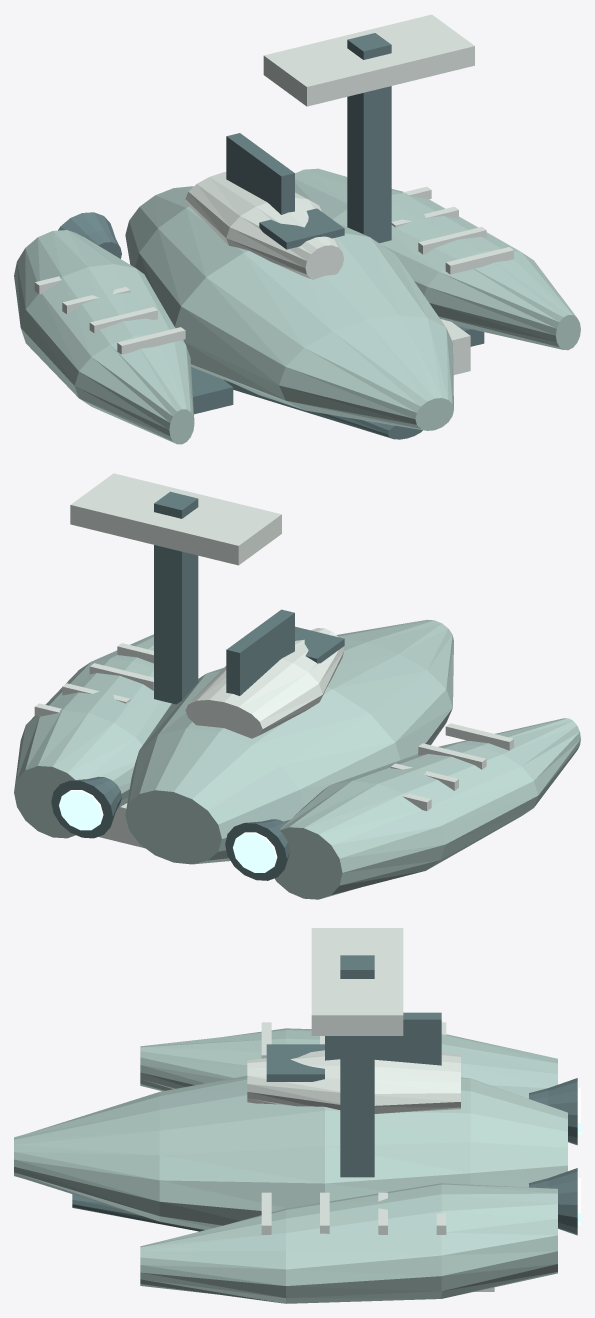
The picture shows the model from 3 angles, top to bottom: view 1: azimuth 30°, elevation 25°; view 2: azimuth 150°, elevation 25°; view 3: azimuth 270°, elevation 25°; orthographic projection. The views are drawn at different scales.
Size of the model in its own units: 9.93 by 6.15 by 9.91.
